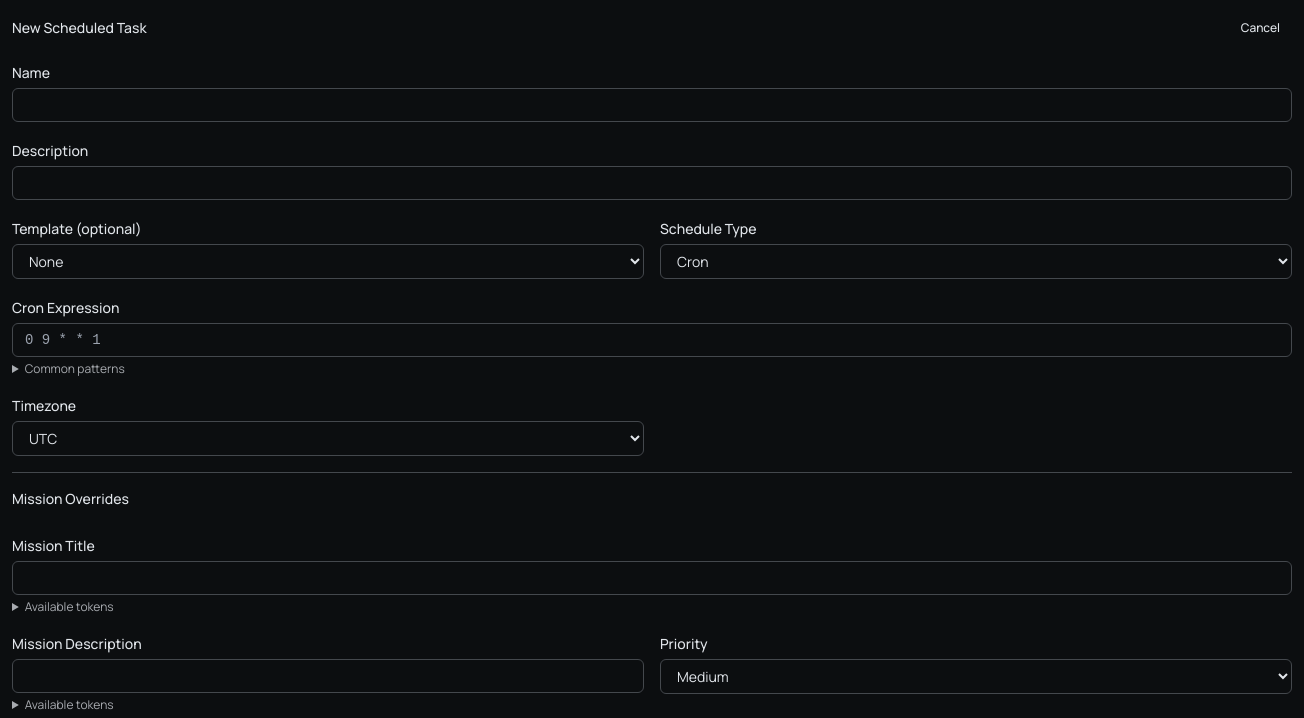
Test: ScheduledTaskForm › shows interval input when schedule type is interval
This screenshot has width=1304, height=718.
Select "Interval" in the dropdown with test id "st-schedule-type" at (976, 262), box [660, 244, 1292, 279]
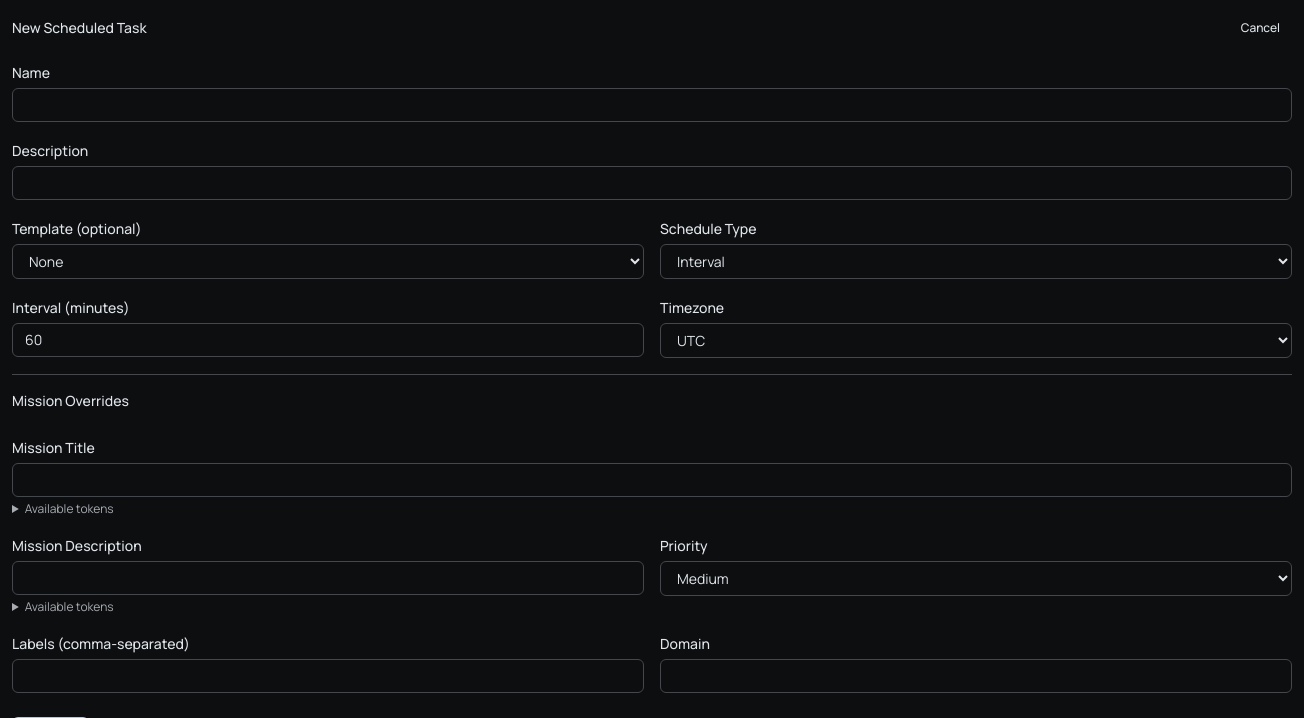
Expected: the number field with test id "st-interval-minutes" is shown, [12, 323, 644, 357]
Expected: the field with test id "st-cron-expression" is gone
